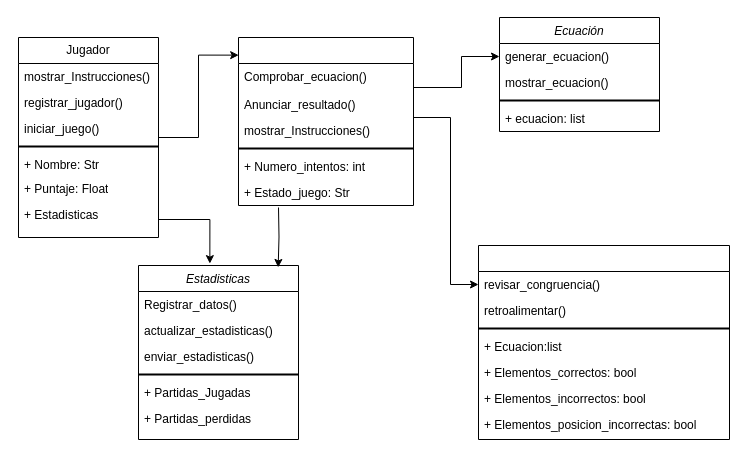
Image size: 747x460. Some labels were removed from this diagram. Each missing label, with the box of its shape:
Nerdle: (238, 36, 414, 206)
Retroalimentación: (478, 244, 730, 440)
